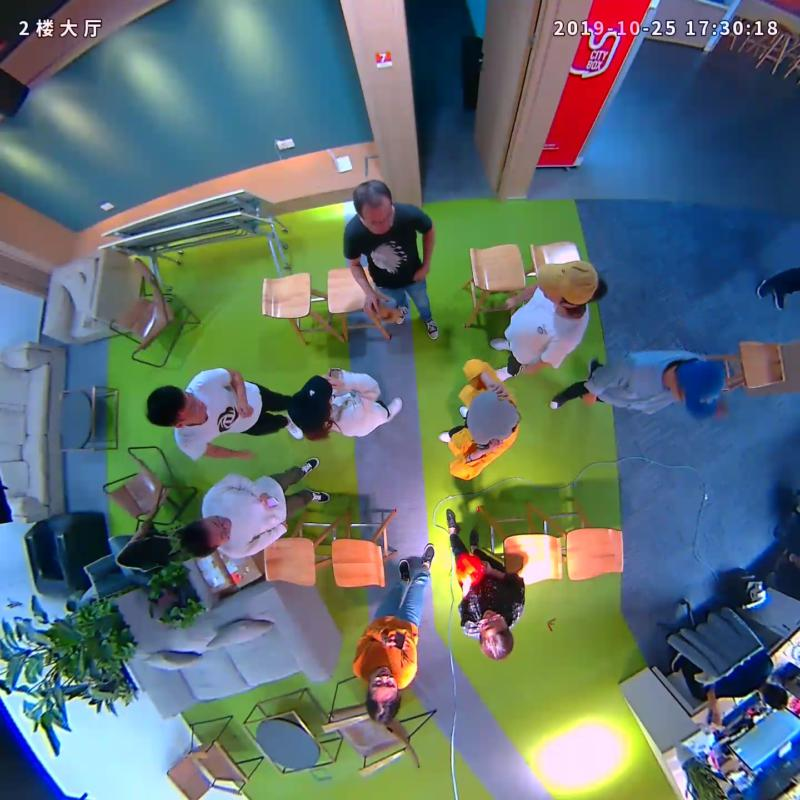head: (670, 358, 726, 421), (536, 258, 599, 309), (464, 389, 518, 446), (144, 384, 208, 428), (286, 375, 333, 432), (182, 515, 233, 559), (353, 180, 395, 233), (366, 665, 402, 725), (477, 608, 515, 660)
